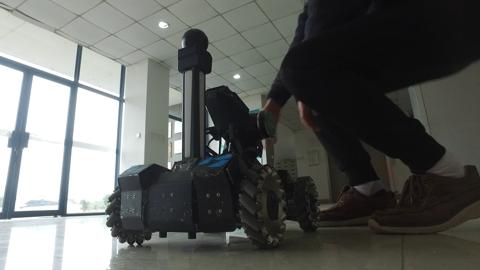chariot: (89, 23, 328, 255)
